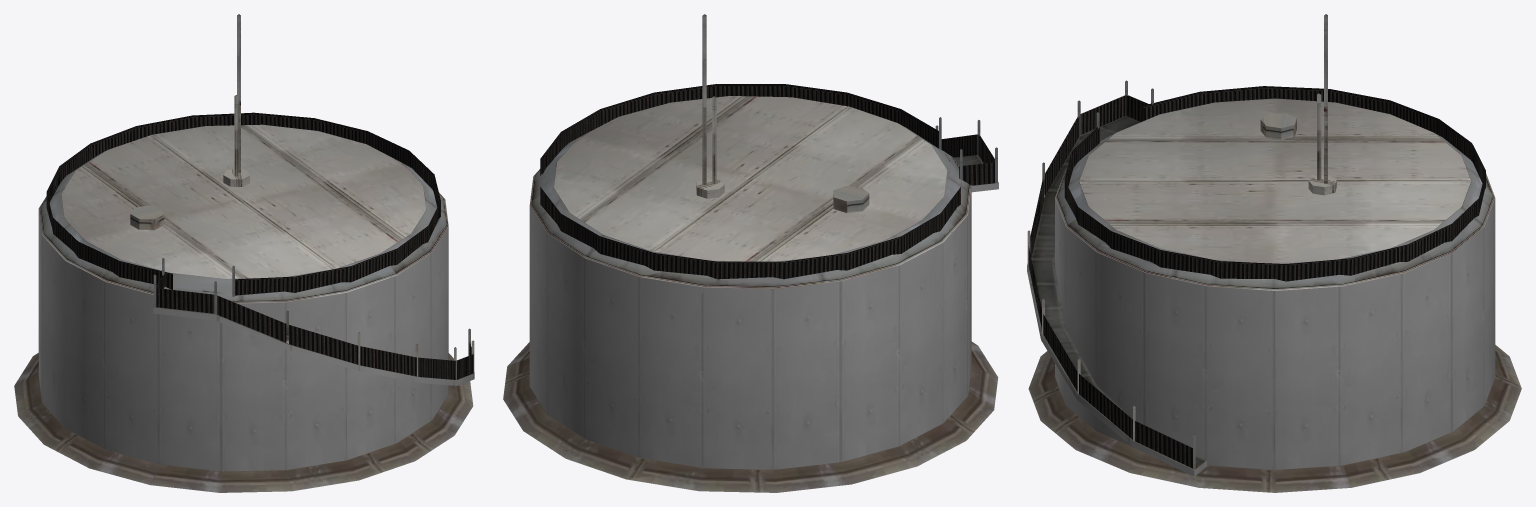
File: ind-tank.lod0.glb
3 views of the same model, side by side, from view 1: azimuth 30°, elevation 25°; view 2: azimuth 150°, elevation 25°; view 3: azimuth 270°, elevation 25° (orthographic). The views are drawn at different scales.
Parts seen in each view (by area): view 1: Industrial_Tank_1_Industrial_Walls_FLR_1_0, Industrial_Tank_1_Industrial_Maskedstuff_1_0; view 2: Industrial_Tank_1_Industrial_Walls_FLR_1_0, Industrial_Tank_1_Industrial_Maskedstuff_1_0; view 3: Industrial_Tank_1_Industrial_Walls_FLR_1_0, Industrial_Tank_1_Industrial_Maskedstuff_1_0.
Part boxes in pixels (x1,y1,x2,y2): Industrial_Tank_1_Industrial_Walls_FLR_1_0: (14, 14, 474, 492); Industrial_Tank_1_Industrial_Maskedstuff_1_0: (46, 112, 473, 379); Industrial_Tank_1_Industrial_Walls_FLR_1_0: (503, 14, 998, 492); Industrial_Tank_1_Industrial_Maskedstuff_1_0: (540, 84, 994, 279); Industrial_Tank_1_Industrial_Walls_FLR_1_0: (1027, 14, 1521, 492); Industrial_Tank_1_Industrial_Maskedstuff_1_0: (1028, 86, 1485, 468).
Bounding box in the file's own units: 17.74 × 15.22 × 17.79.
Materials: 2 (2 with a texture image).
